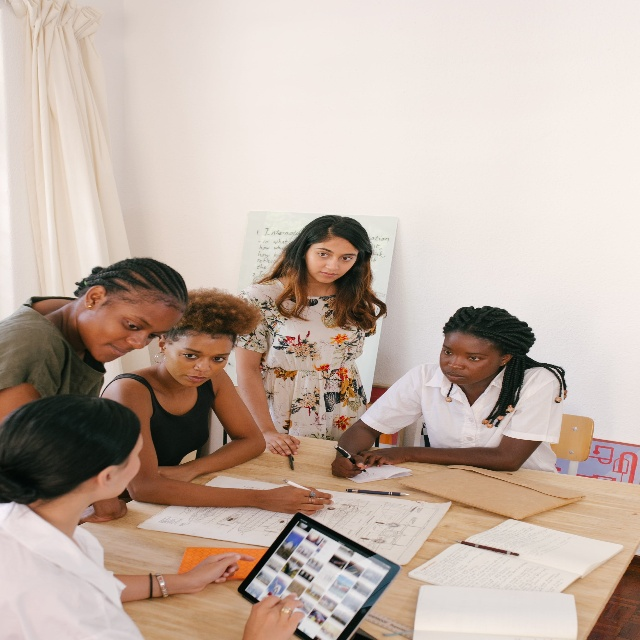Sin_guantes: (185, 552, 254, 595), (242, 596, 305, 640), (269, 484, 334, 515), (79, 497, 126, 525), (359, 445, 408, 468), (263, 429, 300, 456), (330, 452, 365, 479), (157, 462, 195, 483)
